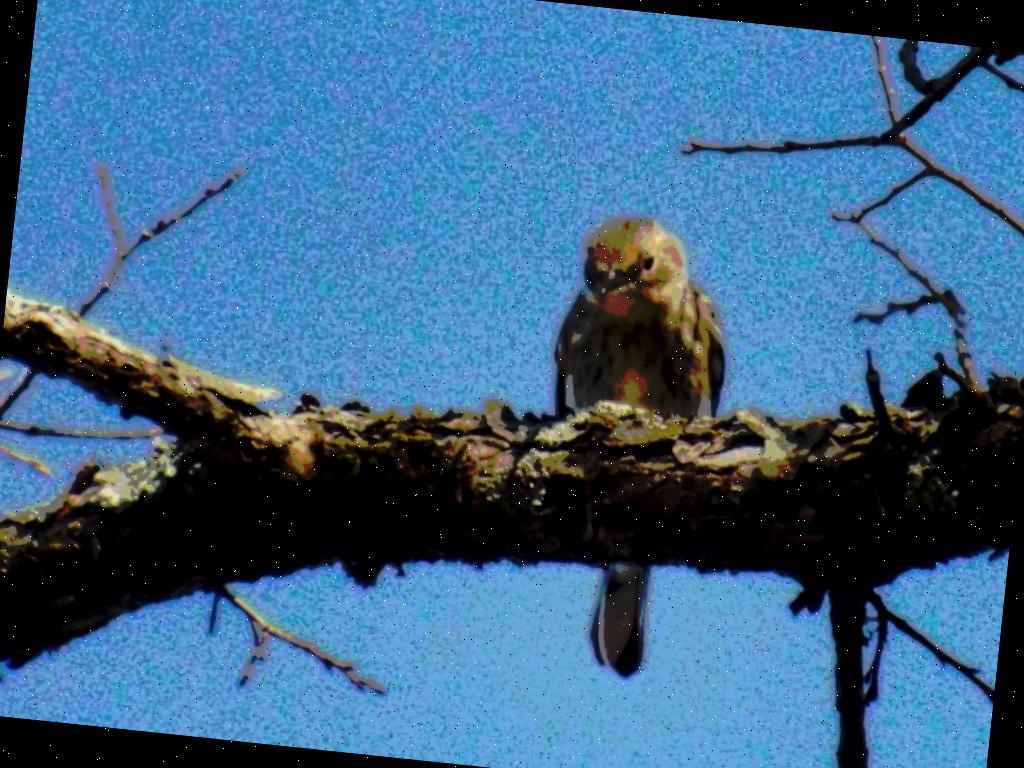Owl: (515, 204, 743, 682)
